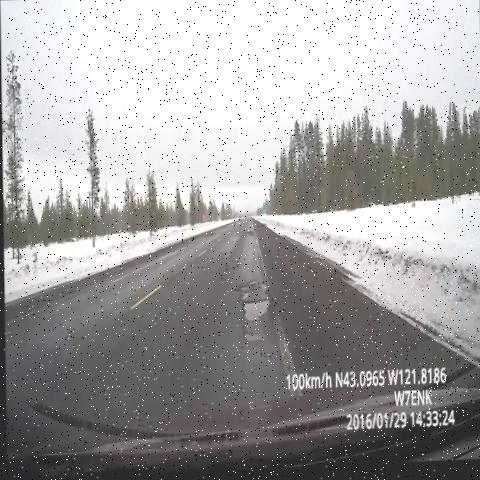pothole: (227, 277, 271, 353), (199, 230, 221, 247), (239, 227, 257, 246), (231, 260, 244, 276)
